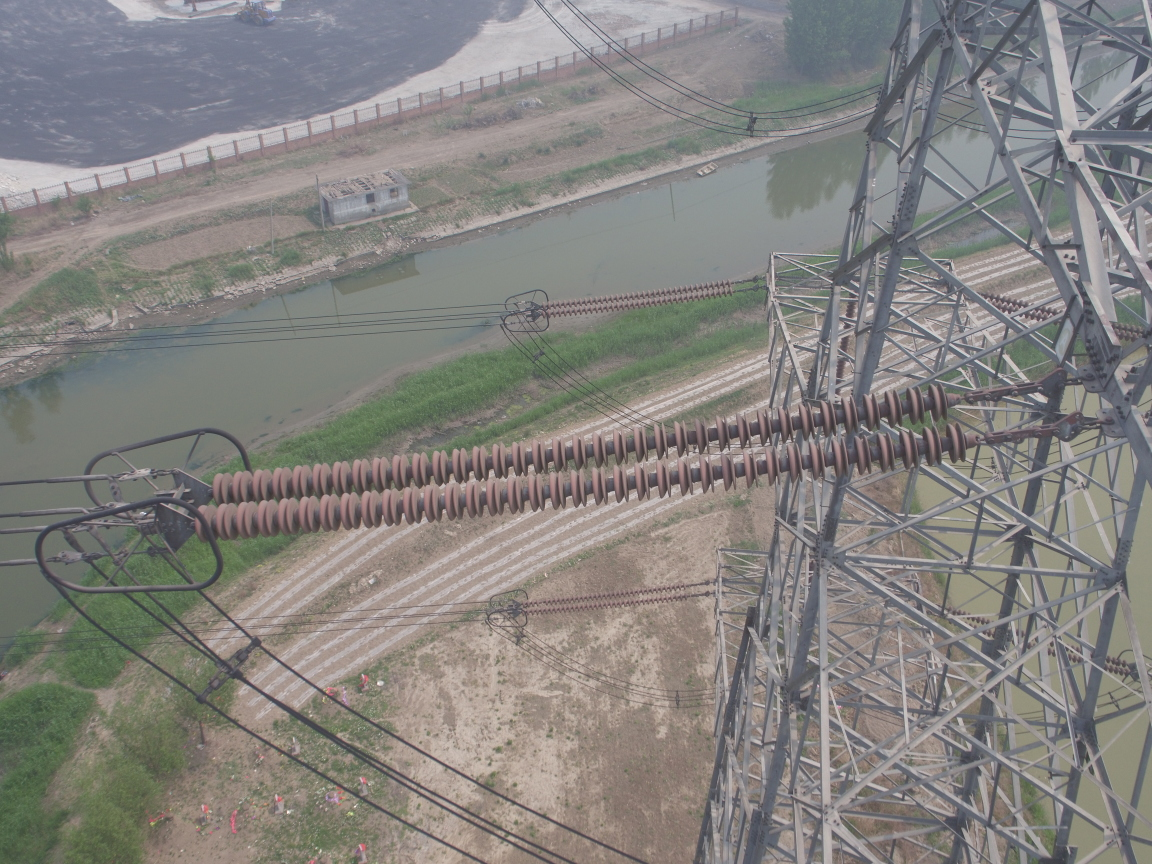insulator: (183, 380, 1009, 542), (942, 605, 1146, 678), (977, 288, 1149, 347), (536, 275, 744, 318), (516, 580, 703, 616)
